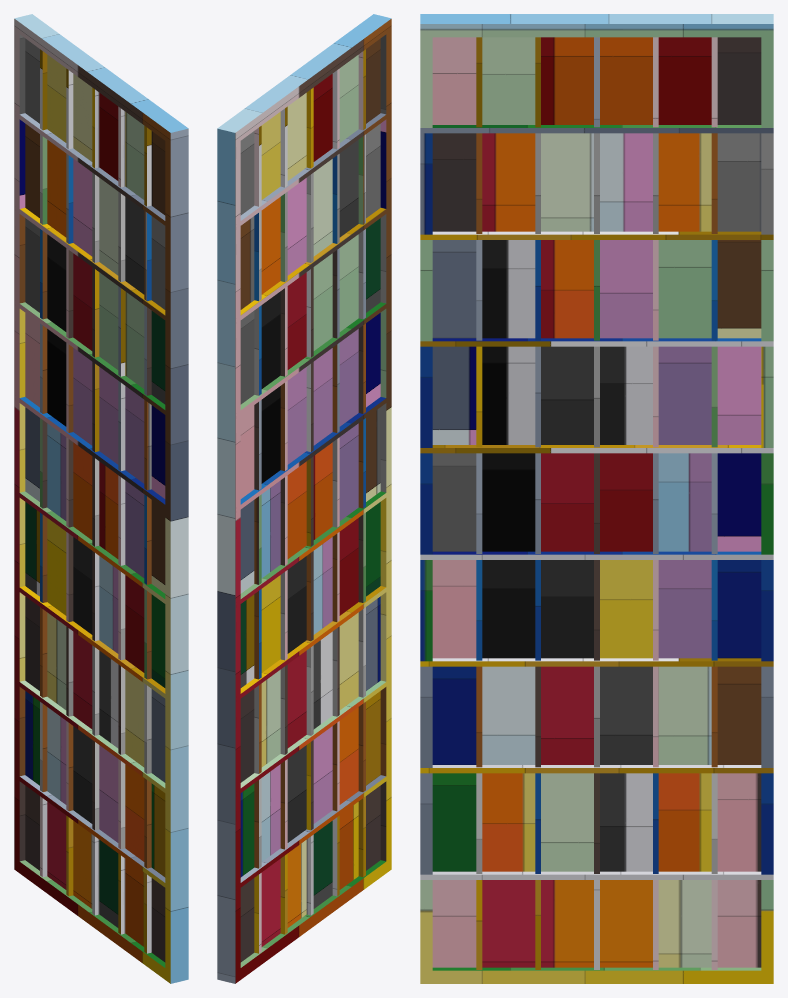
Rendered from Inside_Wall.fbx.
3 views of the same model, side by side, from view 1: azimuth 30°, elevation 25°; view 2: azimuth 150°, elevation 25°; view 3: azimuth 270°, elevation 25° (orthographic). The views are drawn at different scales.
Parts seen in each view (by area): view 1: Inside_Wall; view 2: Inside_Wall; view 3: Inside_Wall.
Part boxes in pixels (x1,y1,x2,y2): Inside_Wall: (14, 14, 188, 983); Inside_Wall: (217, 14, 391, 983); Inside_Wall: (420, 14, 773, 983).
Size of the model in its own units: 5.11 by 230 by 76.6.
